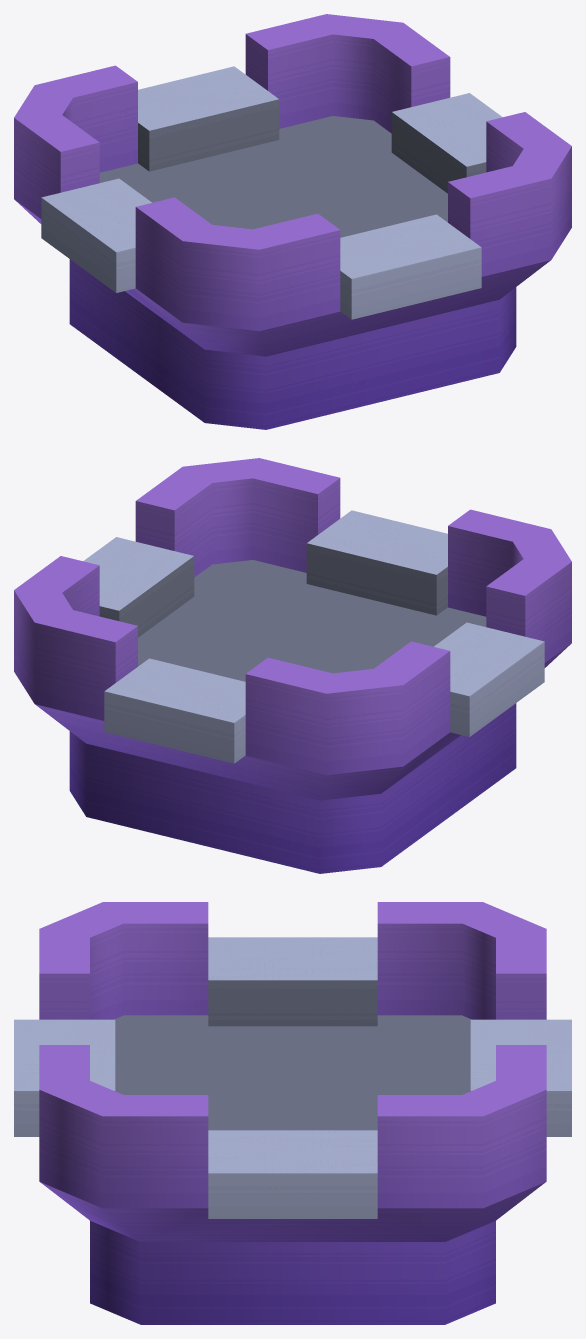
File: tower-square-top-b.glb
3 renders of one model, top to bottom at view 1: azimuth 30°, elevation 25°; view 2: azimuth 150°, elevation 25°; view 3: azimuth 270°, elevation 25°, orthographic. The views are drawn at different scales.
Visible parts, largest first — view 1: tower-square-top-b; view 2: tower-square-top-b; view 3: tower-square-top-b.
Boxes of the visible parts, bbox=[...] form: tower-square-top-b: bbox=[14, 14, 571, 429]; tower-square-top-b: bbox=[14, 458, 571, 873]; tower-square-top-b: bbox=[14, 902, 571, 1324].
Size of the model in its own units: 3.3 by 1.5 by 3.3.
1 material, 1 textured.
